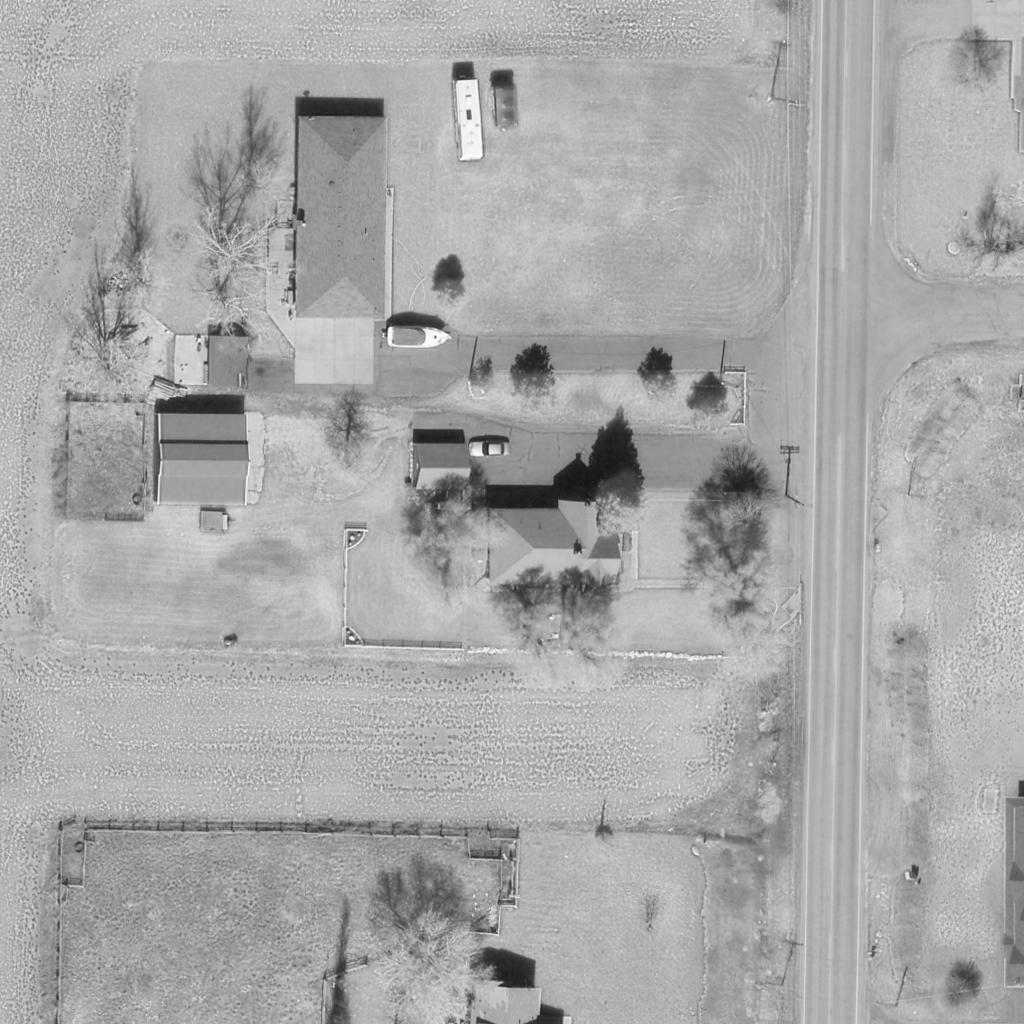vehicle: (453, 81, 481, 159), (387, 325, 455, 347), (467, 440, 513, 458)
